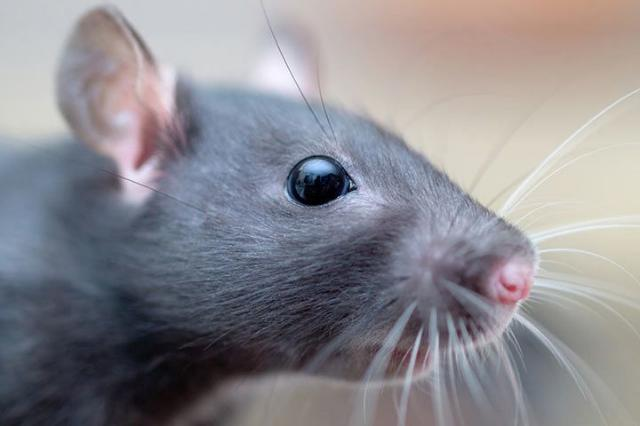rat: (5, 3, 563, 404)
